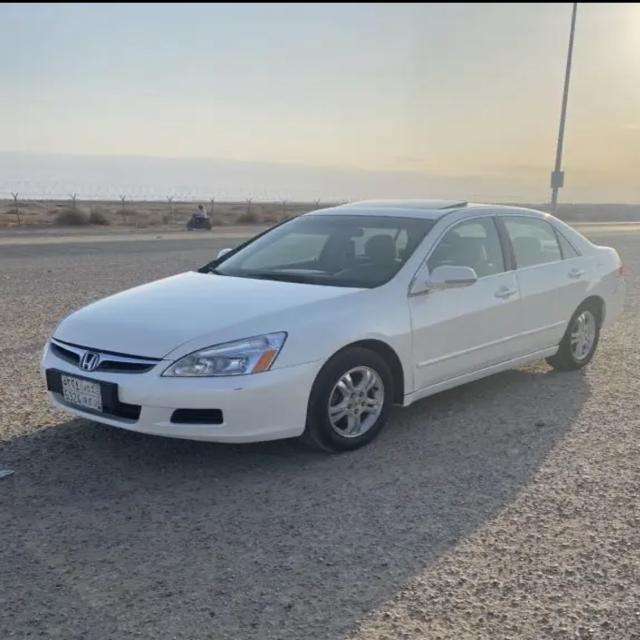license_plate: (60, 373, 102, 411)
